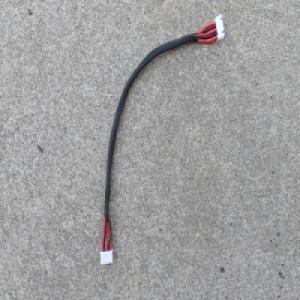Wire: (98, 12, 227, 267)
